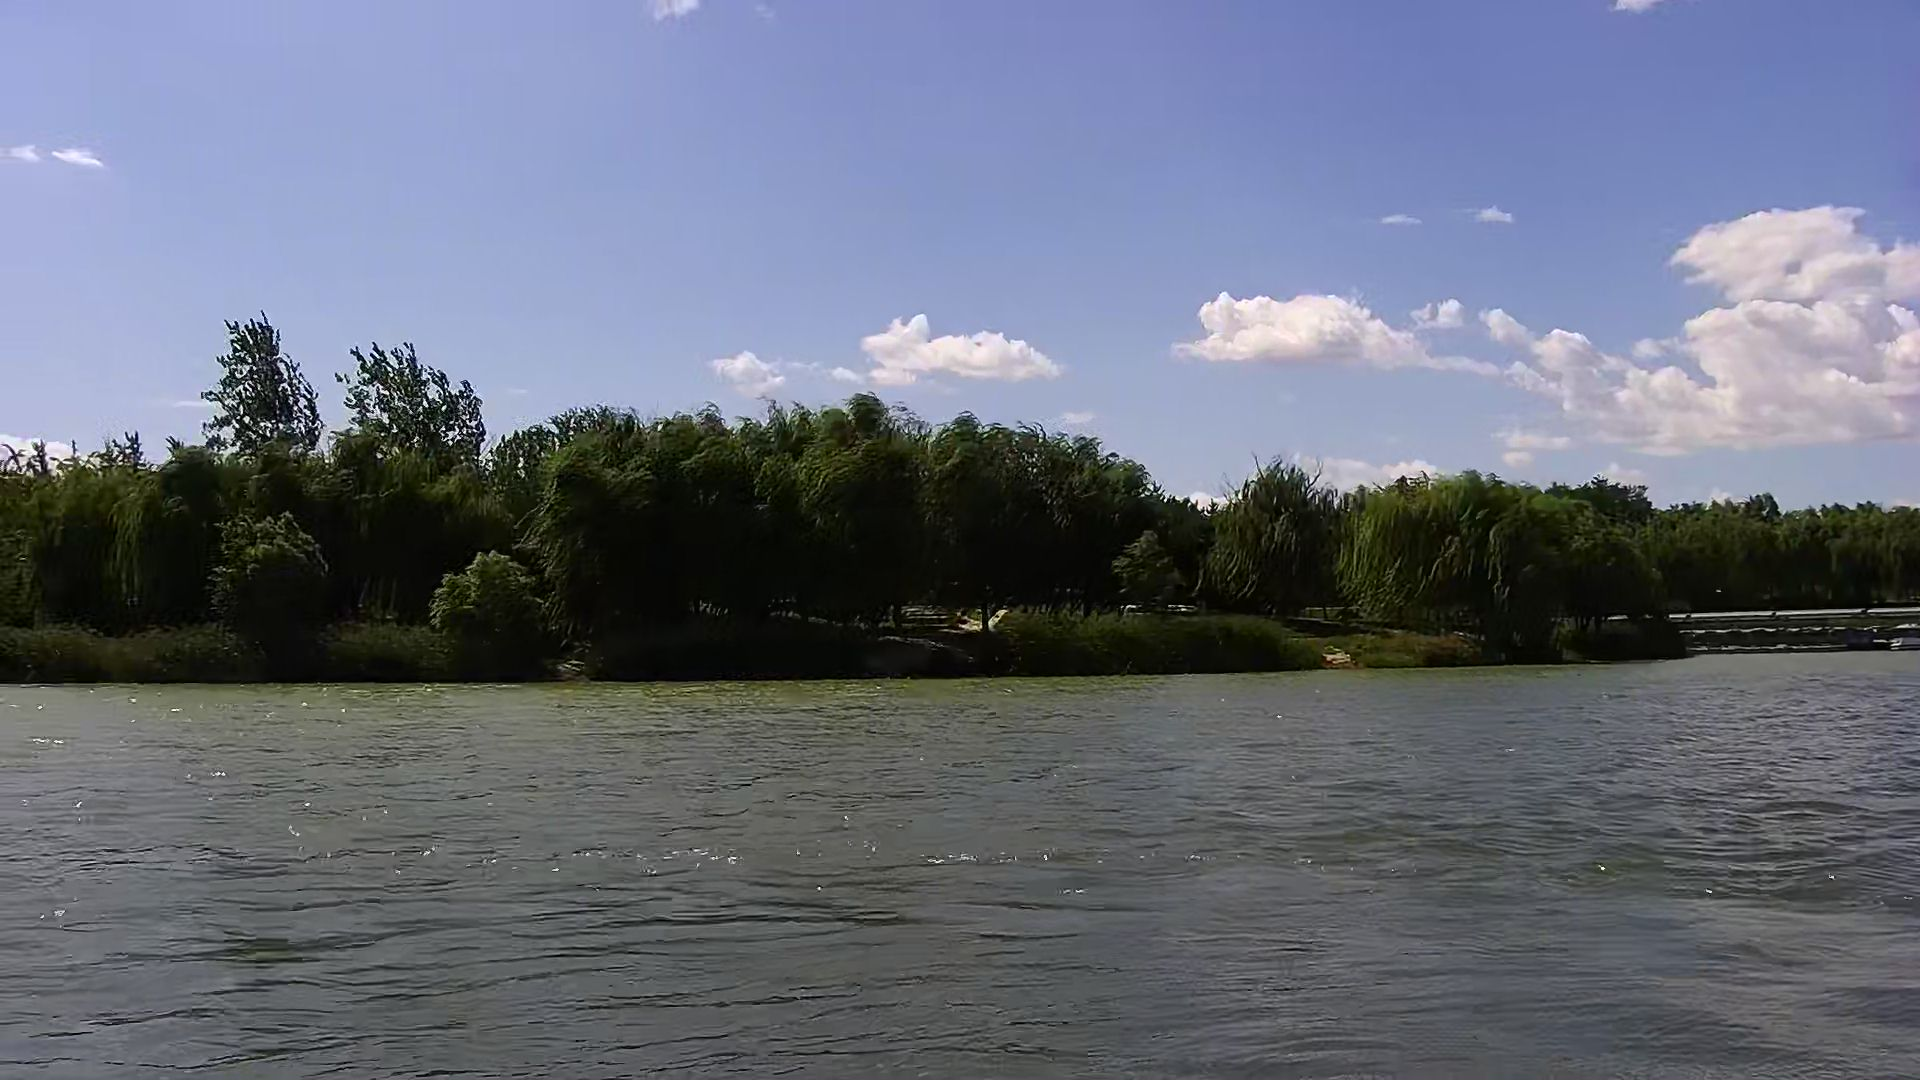boat: (1891, 618, 1920, 651)
harbor: (1692, 612, 1920, 657)
